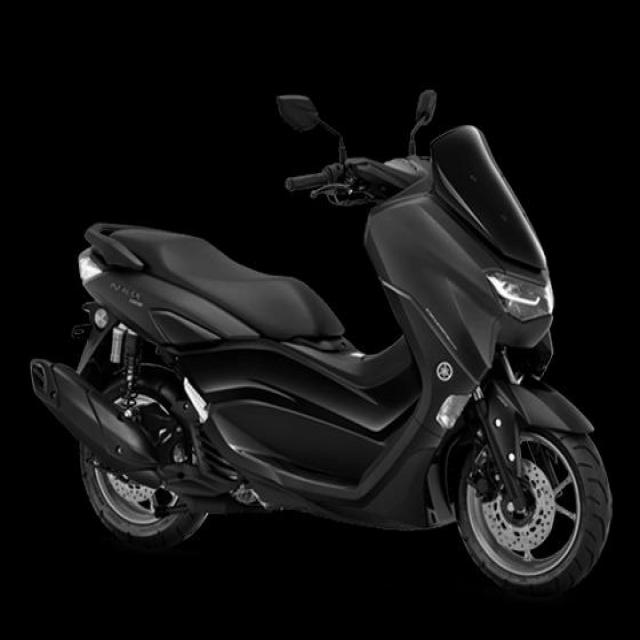Motorcycle: (30, 126, 612, 594)
